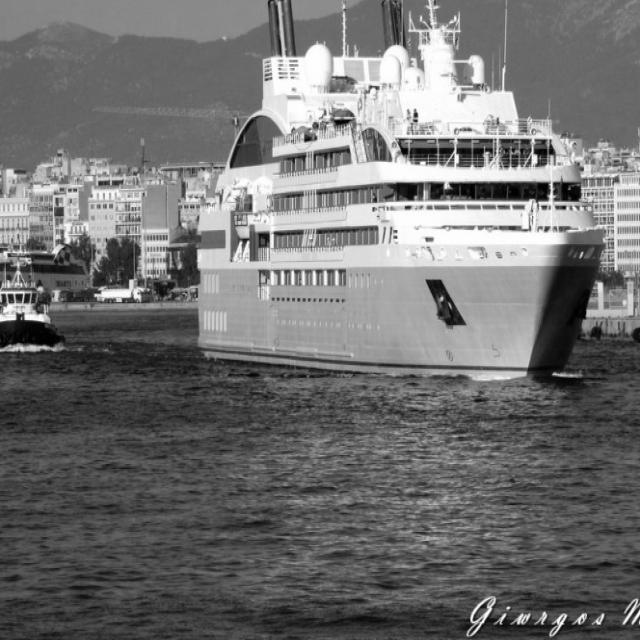cruises: (191, 1, 609, 392)
